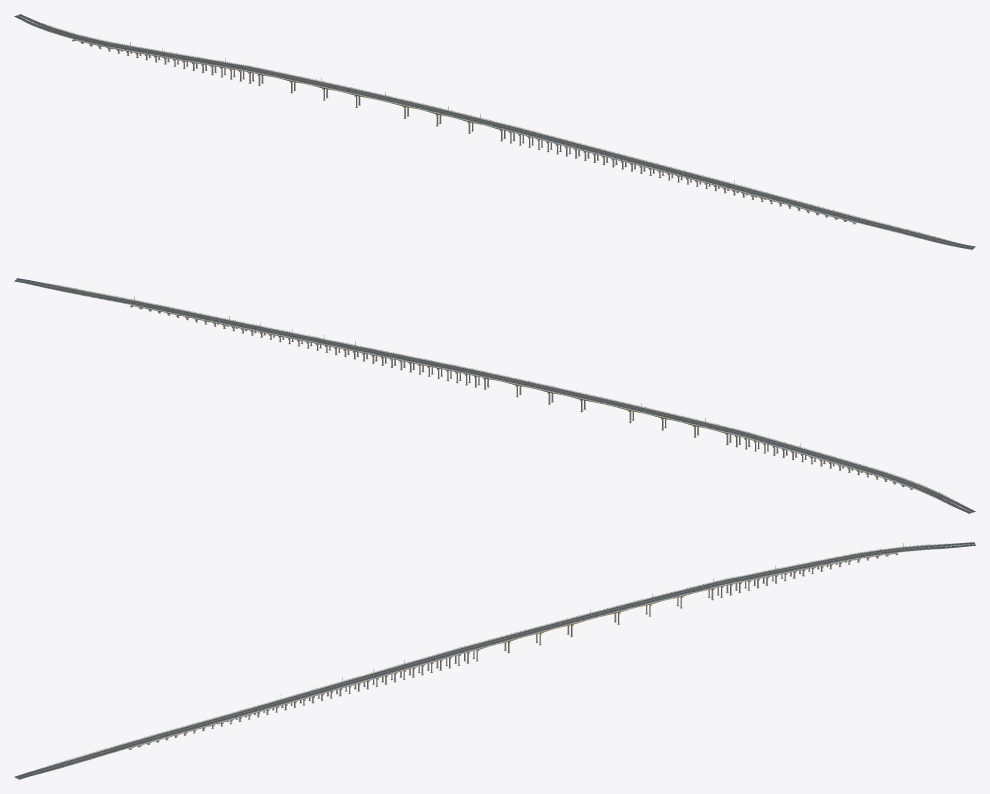
The model's file is oak-street-bridge-near.glb.
The picture shows the model from 3 angles, top to bottom: view 1: azimuth 30°, elevation 25°; view 2: azimuth 210°, elevation 25°; view 3: azimuth 270°, elevation 25°; orthographic projection.
Parts seen in each view (by area): view 1: oak-street-bridge-2-concrete, oak-street-bridge-1-concrete, oak-street-bridge-0-concrete, oak-street-bridge-3-asphalt, oak-street-bridge-2-asphalt, oak-street-bridge-1-asphalt, oak-street-bridge-3-concrete, oak-street-bridge-0-asphalt; view 2: oak-street-bridge-2-concrete, oak-street-bridge-1-concrete, oak-street-bridge-0-concrete, oak-street-bridge-0-asphalt, oak-street-bridge-1-asphalt, oak-street-bridge-3-asphalt, oak-street-bridge-2-asphalt, oak-street-bridge-3-concrete; view 3: oak-street-bridge-2-concrete, oak-street-bridge-1-concrete, oak-street-bridge-0-concrete, oak-street-bridge-3-asphalt, oak-street-bridge-2-asphalt, oak-street-bridge-1-asphalt, oak-street-bridge-0-asphalt, oak-street-bridge-3-concrete.
Boxes of the visible parts, x1=… form: oak-street-bridge-2-concrete: x1=485, y1=120, x2=732, y2=193; oak-street-bridge-1-concrete: x1=241, y1=65, x2=490, y2=133; oak-street-bridge-0-concrete: x1=22, y1=17, x2=246, y2=81; oak-street-bridge-3-asphalt: x1=729, y1=184, x2=975, y2=249; oak-street-bridge-2-asphalt: x1=486, y1=121, x2=732, y2=187; oak-street-bridge-1-asphalt: x1=242, y1=66, x2=489, y2=124; oak-street-bridge-3-concrete: x1=728, y1=184, x2=961, y2=247; oak-street-bridge-0-asphalt: x1=14, y1=14, x2=245, y2=69; oak-street-bridge-2-concrete: x1=256, y1=326, x2=504, y2=389; oak-street-bridge-1-concrete: x1=499, y1=376, x2=747, y2=447; oak-street-bridge-0-concrete: x1=743, y1=432, x2=967, y2=510; oak-street-bridge-0-asphalt: x1=744, y1=433, x2=975, y2=513; oak-street-bridge-1-asphalt: x1=500, y1=377, x2=747, y2=435; oak-street-bridge-3-asphalt: x1=14, y1=278, x2=260, y2=330; oak-street-bridge-2-asphalt: x1=258, y1=327, x2=503, y2=379; oak-street-bridge-3-concrete: x1=31, y1=280, x2=261, y2=335; oak-street-bridge-2-concrete: x1=250, y1=640, x2=493, y2=717; oak-street-bridge-1-concrete: x1=488, y1=579, x2=729, y2=653; oak-street-bridge-0-concrete: x1=724, y1=543, x2=961, y2=595; oak-street-bridge-3-asphalt: x1=14, y1=708, x2=254, y2=779; oak-street-bridge-2-asphalt: x1=251, y1=641, x2=492, y2=711; oak-street-bridge-1-asphalt: x1=488, y1=580, x2=728, y2=643; oak-street-bridge-0-asphalt: x1=725, y1=542, x2=975, y2=583; oak-street-bridge-3-concrete: x1=25, y1=708, x2=255, y2=775.
Bounding box in the file's own units: 930 × 34.24 × 1591.
